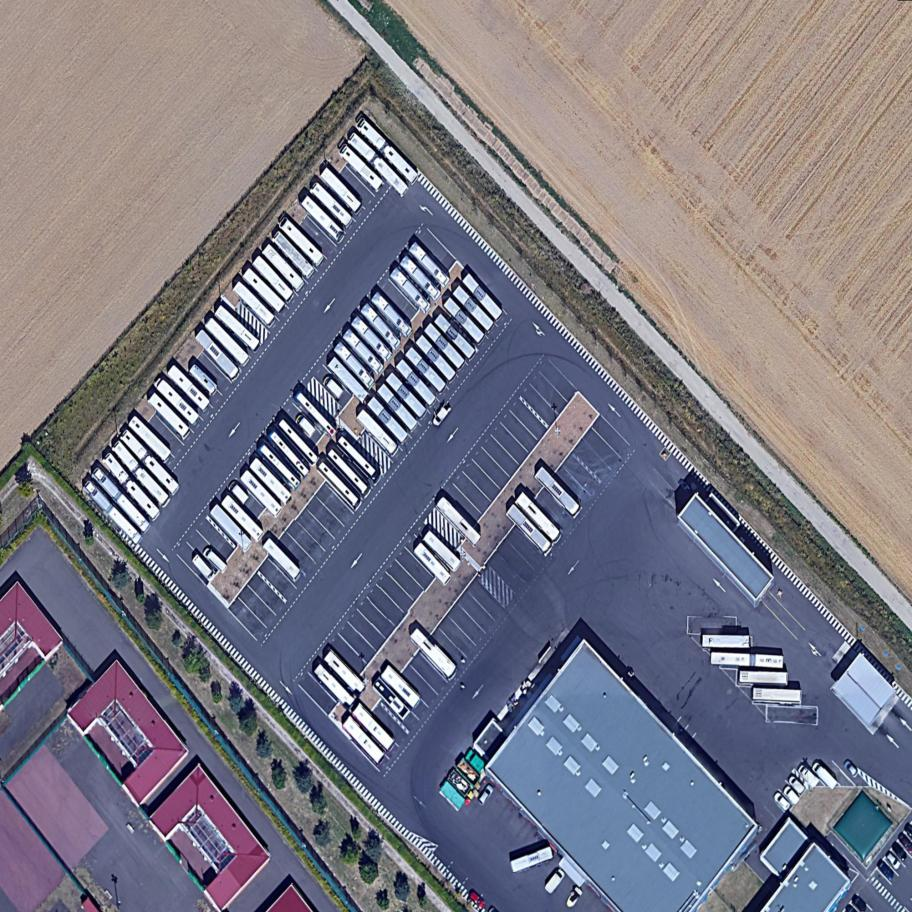large-vehicle: (352, 114, 421, 186), (345, 131, 411, 197), (82, 478, 145, 546), (119, 429, 182, 495), (110, 439, 172, 506), (101, 452, 162, 520), (90, 467, 153, 532), (407, 625, 460, 680), (273, 413, 324, 470), (253, 439, 305, 492), (264, 426, 314, 481), (503, 503, 555, 555), (434, 494, 484, 548), (314, 460, 365, 512), (319, 645, 370, 697), (324, 447, 375, 499), (291, 388, 341, 441), (364, 394, 413, 448), (308, 660, 359, 711), (533, 465, 583, 517), (348, 701, 398, 753), (450, 282, 499, 335), (441, 294, 489, 348), (513, 491, 563, 542), (374, 382, 422, 435), (203, 315, 252, 366), (353, 408, 402, 459), (358, 301, 406, 353), (397, 253, 445, 305), (393, 357, 440, 410), (193, 330, 242, 380), (349, 314, 398, 364), (340, 714, 388, 765), (388, 265, 436, 316), (406, 240, 454, 291), (336, 143, 385, 192), (298, 194, 347, 243), (219, 492, 267, 542), (277, 215, 325, 265), (368, 290, 416, 340), (331, 339, 378, 390), (384, 371, 431, 422), (461, 271, 507, 323), (247, 456, 295, 505), (152, 377, 201, 425), (341, 327, 388, 377), (413, 334, 460, 384), (420, 322, 467, 372), (403, 346, 449, 397), (213, 305, 262, 352), (270, 229, 317, 278), (432, 313, 479, 362), (238, 469, 285, 517), (308, 181, 356, 228), (251, 254, 297, 303), (165, 364, 212, 411), (319, 165, 364, 214), (261, 242, 306, 291), (126, 416, 173, 462), (146, 391, 192, 437), (241, 267, 287, 313), (209, 503, 253, 551), (231, 280, 277, 325), (327, 356, 371, 403), (378, 665, 423, 710), (369, 676, 413, 722), (260, 537, 303, 580), (421, 529, 464, 572), (412, 541, 453, 586), (509, 845, 556, 874), (710, 651, 783, 669), (188, 363, 219, 395), (752, 686, 802, 705), (190, 553, 219, 584), (201, 545, 230, 575), (738, 669, 788, 686), (702, 633, 750, 648)
small-vehicle: (809, 760, 841, 791), (796, 763, 822, 788), (770, 788, 795, 813), (786, 773, 810, 797), (875, 858, 899, 882), (882, 849, 904, 872), (781, 783, 803, 806), (889, 840, 910, 862), (842, 758, 862, 779)
